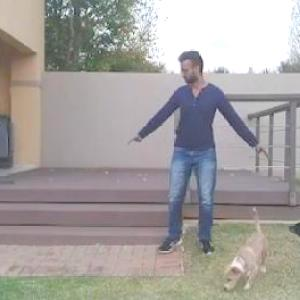land: (141, 45, 281, 248)
